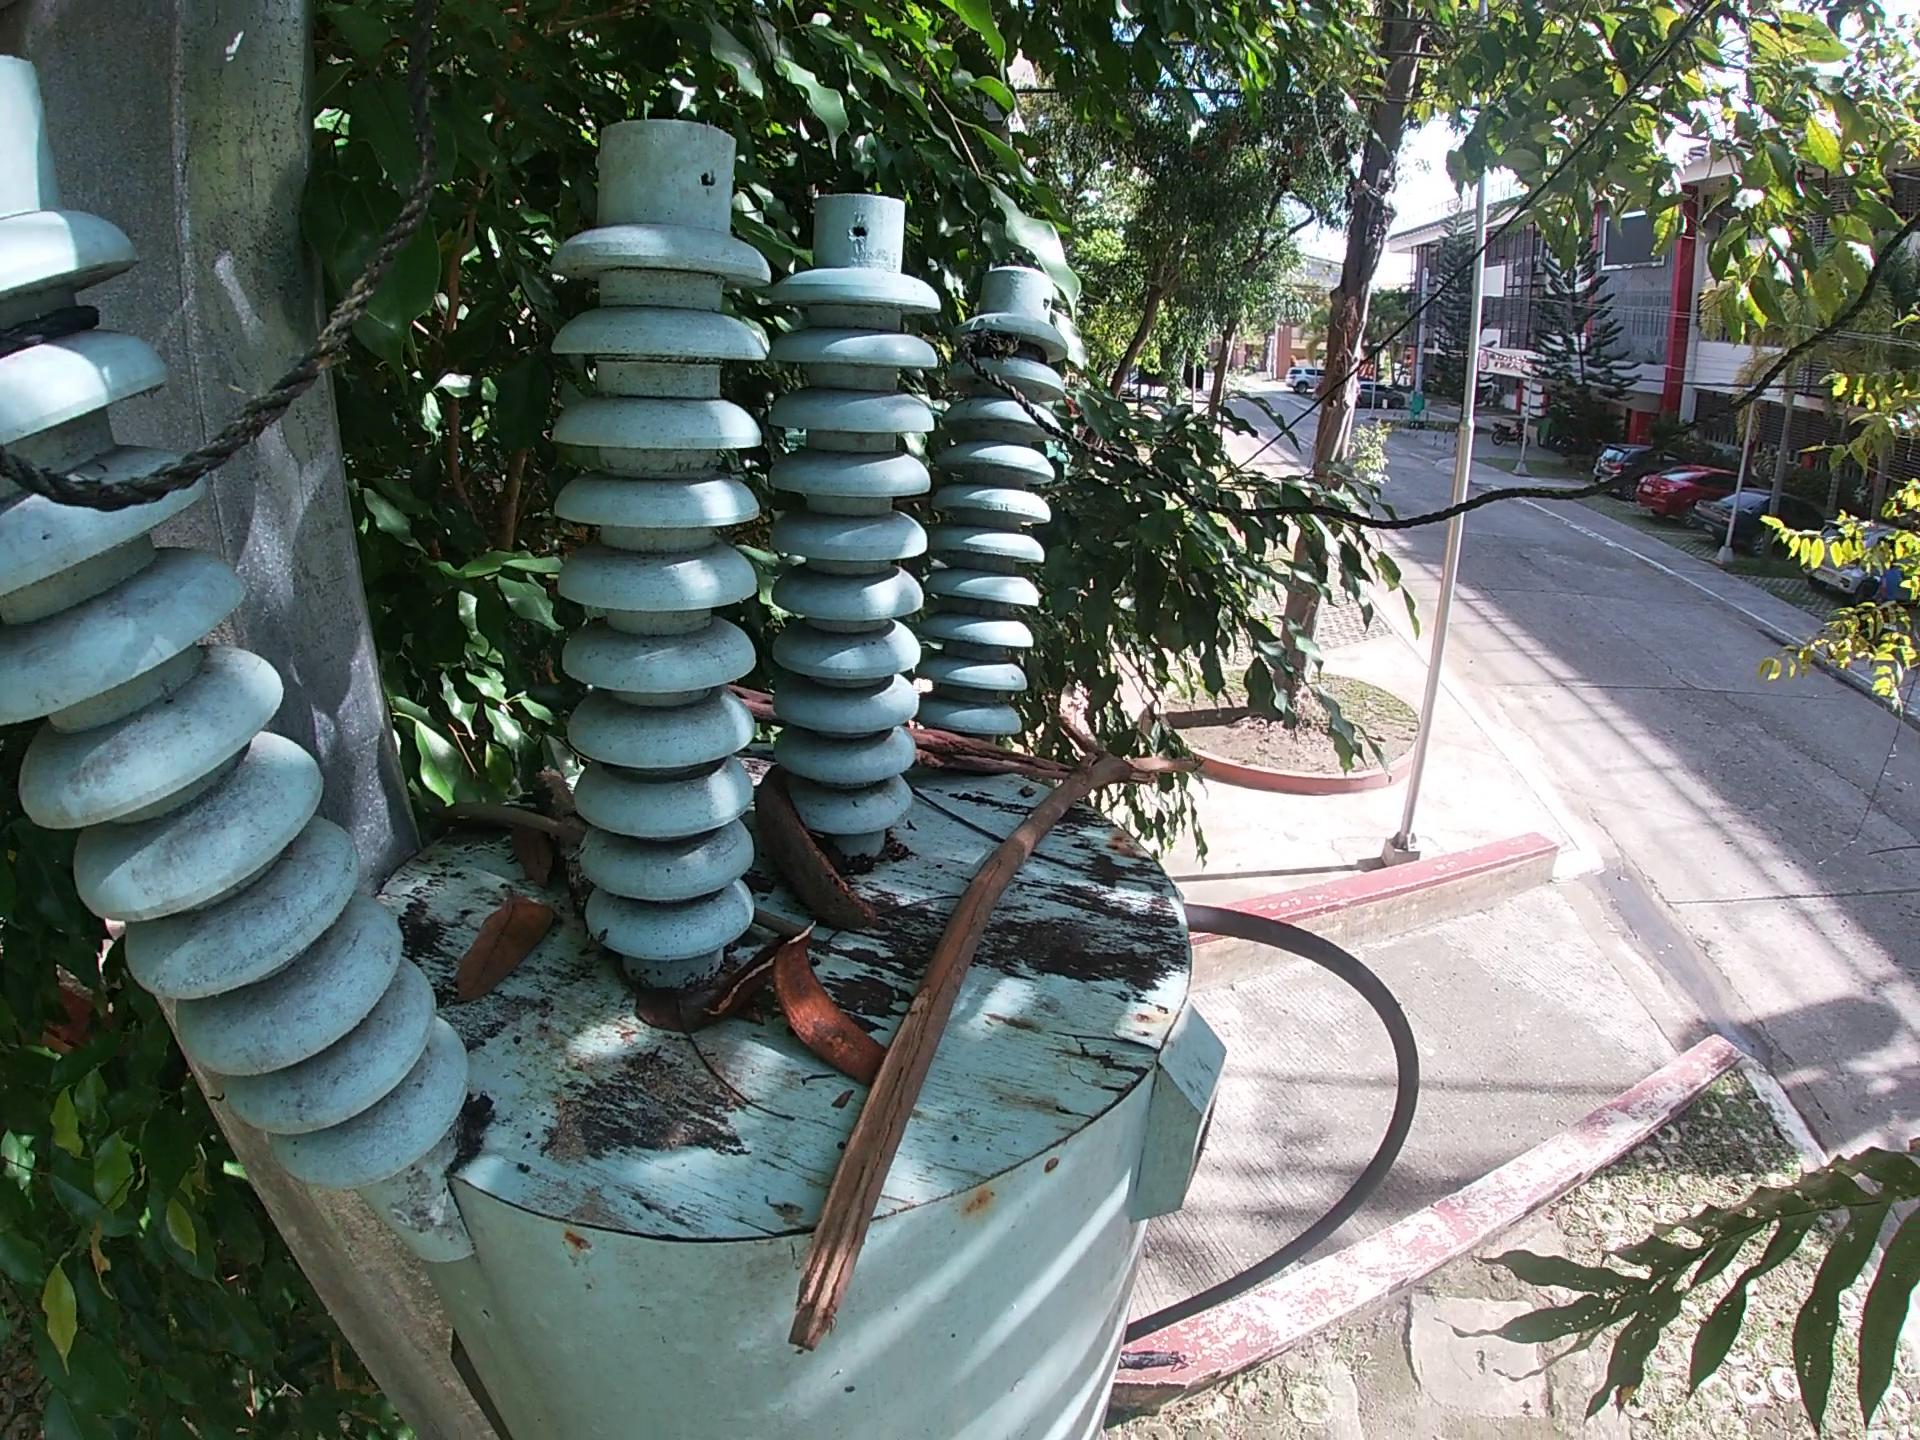leaf: (444, 880, 567, 1007), (620, 982, 726, 1039), (509, 823, 549, 889)
mahogany fruit: (753, 755, 875, 929), (773, 923, 892, 1092), (703, 930, 791, 1019)
tree branch: (782, 708, 1209, 1361), (721, 679, 1078, 782), (528, 761, 597, 932), (416, 802, 591, 849), (748, 903, 812, 935)
